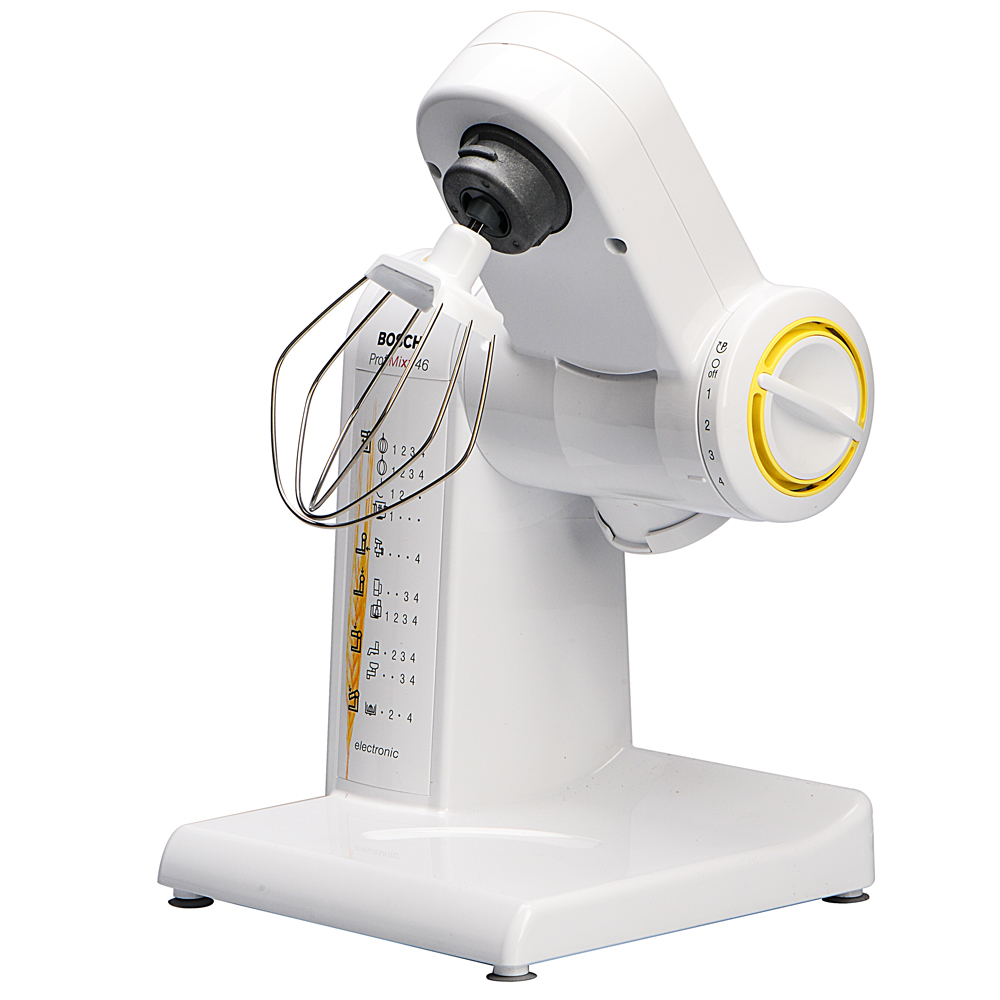Bosch: (376, 329, 427, 356)
